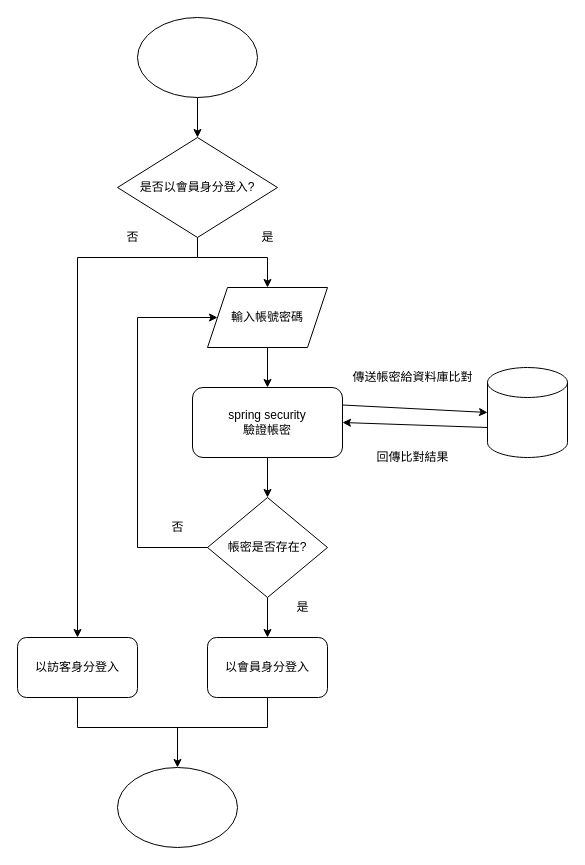
The diagram is 585 pixels wide and 865 high, and some of its shapes have lost their labels. The box of each missing label's shape, as (x1, y1, x2, y2) in pixels:
結束: (116, 766, 238, 848)
資料庫: (486, 366, 568, 458)
開始: (136, 16, 258, 98)
